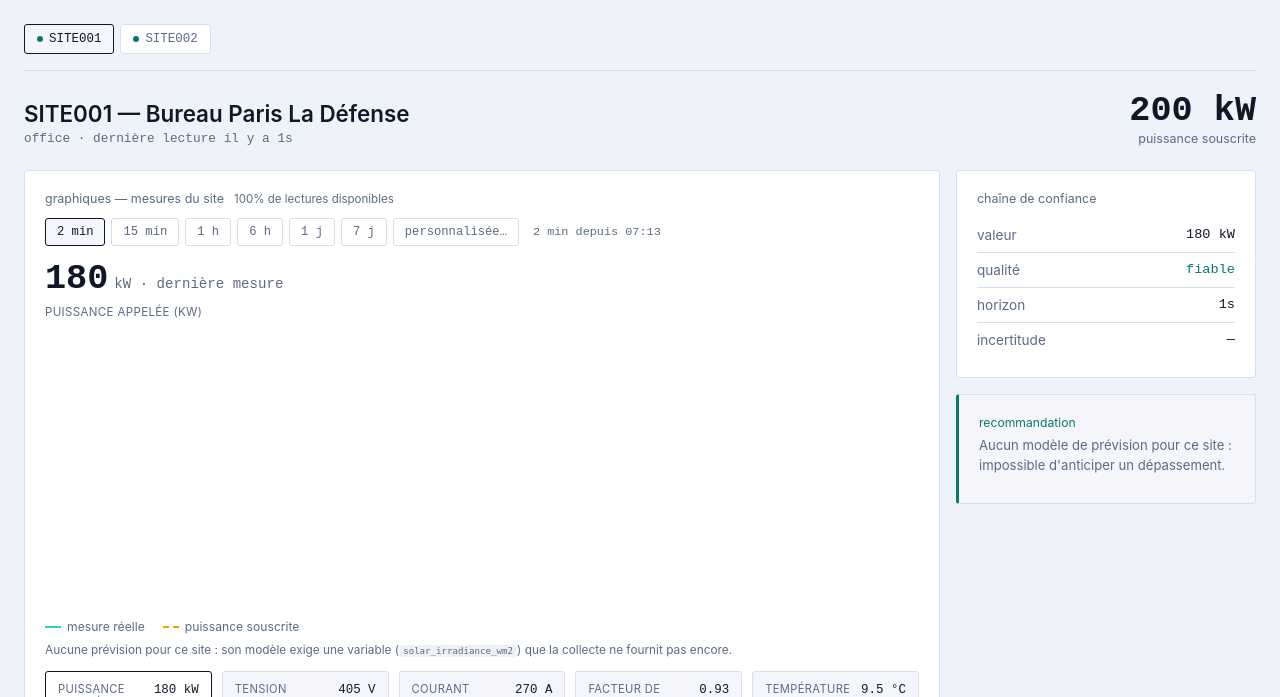
Test: DashboardView › recharge les mesures sur la période saisie, hors préréglages
Click the button "personnalisée…". click: (456, 232)
box: [393,218,519,246]
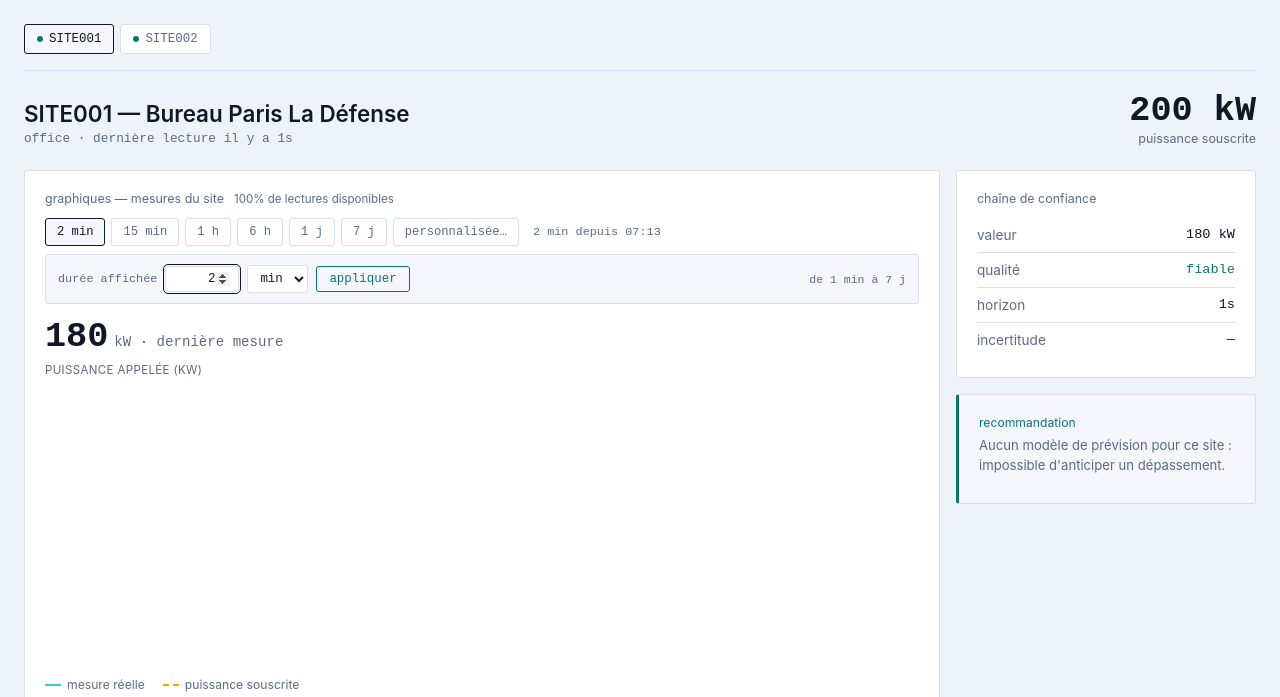
Replace the text in the number field with class "saisie-periode-duree" with "45". click: (202, 279)
box: [165,266,239,292]
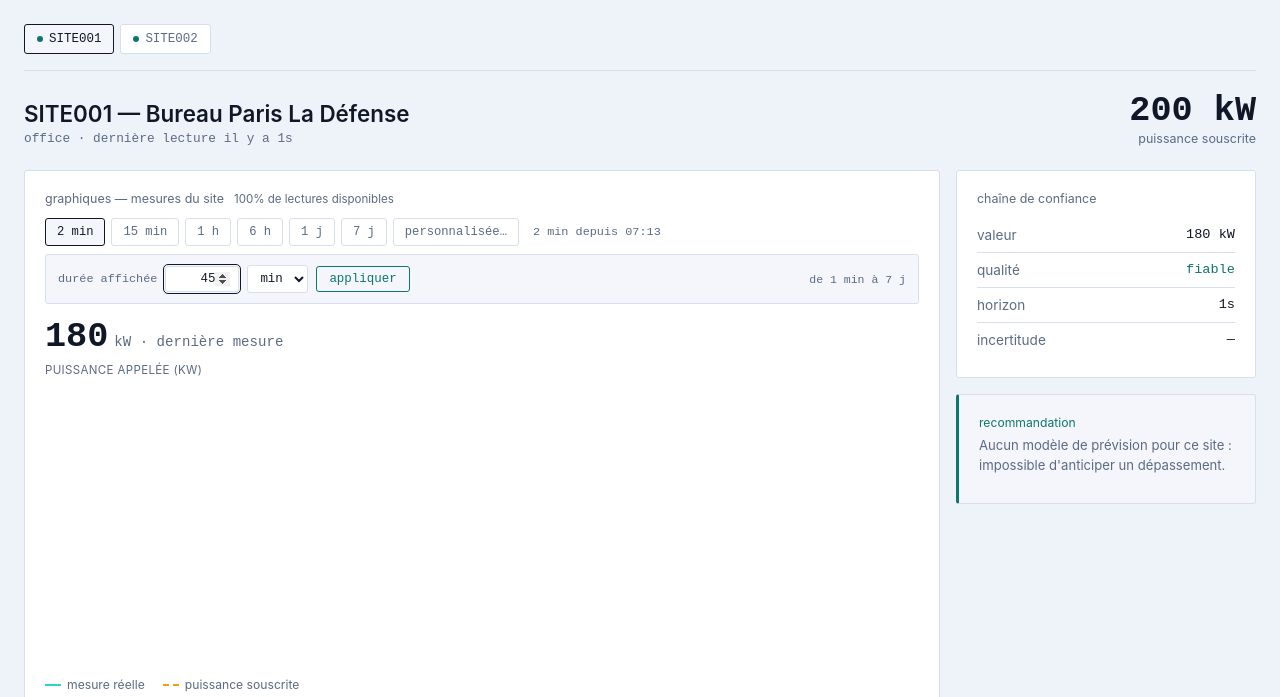
Submit the form with class "saisie-periode", box [45,254,919,304]
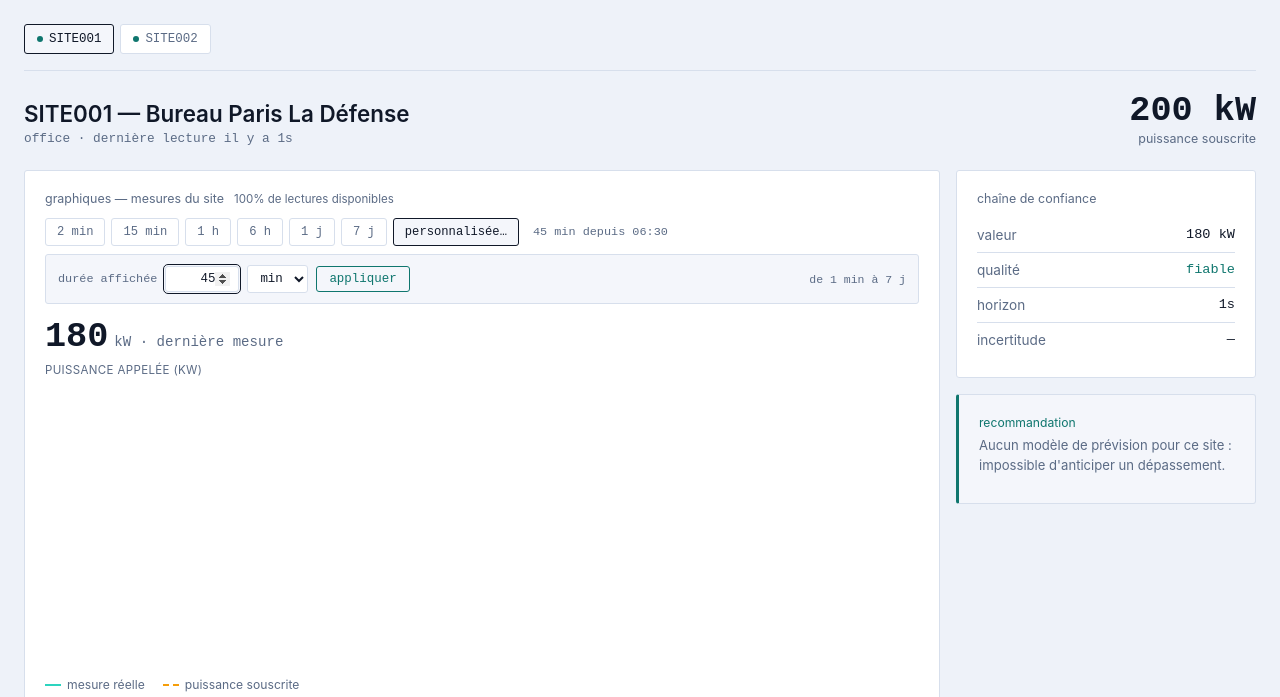
Expected: the text with class "resume-periode" shows "45 min", [533,225,668,239]
